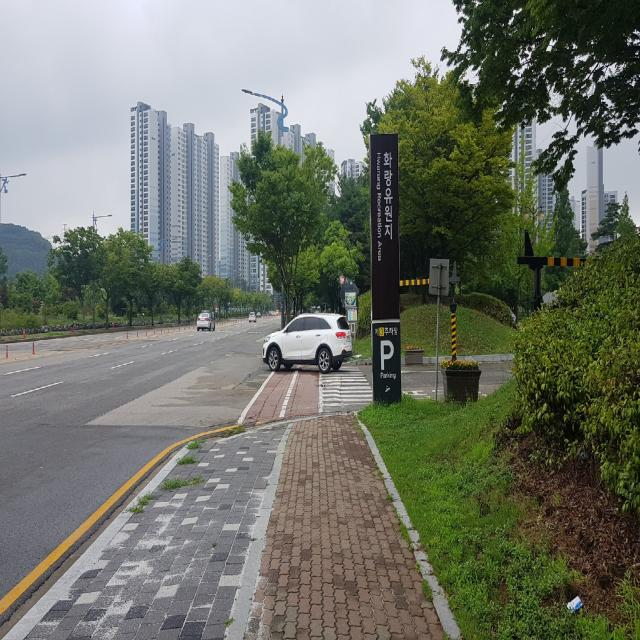횡단보도: (322, 366, 372, 407)
